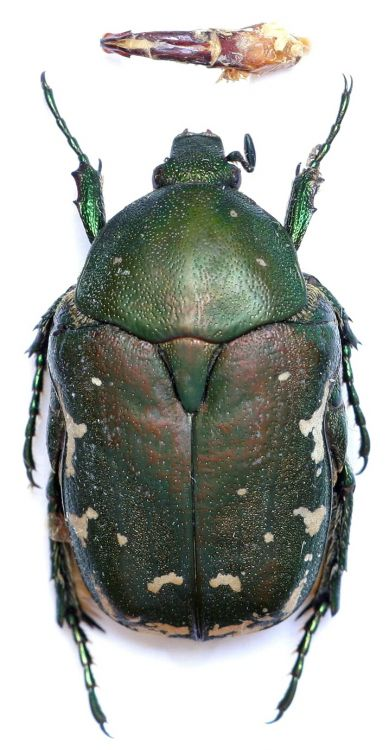Protaetia_ungarica: (9, 62, 374, 750)
